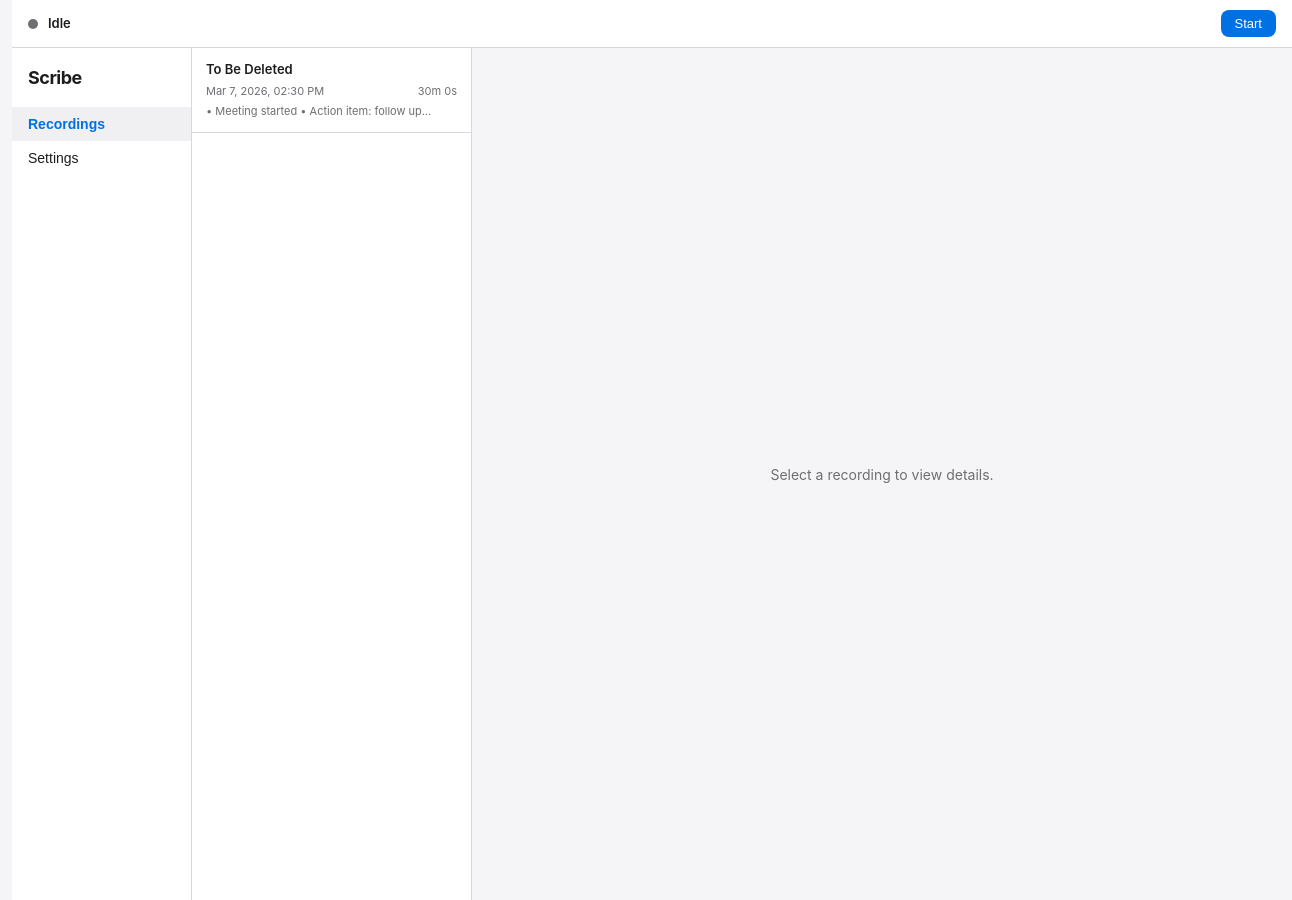
Test: App – recording selection › clears detail pane when recording is deleted
This screenshot has width=1292, height=900.
Click the text "To Be Deleted".
click(249, 69)  # box [206,61,293,77]
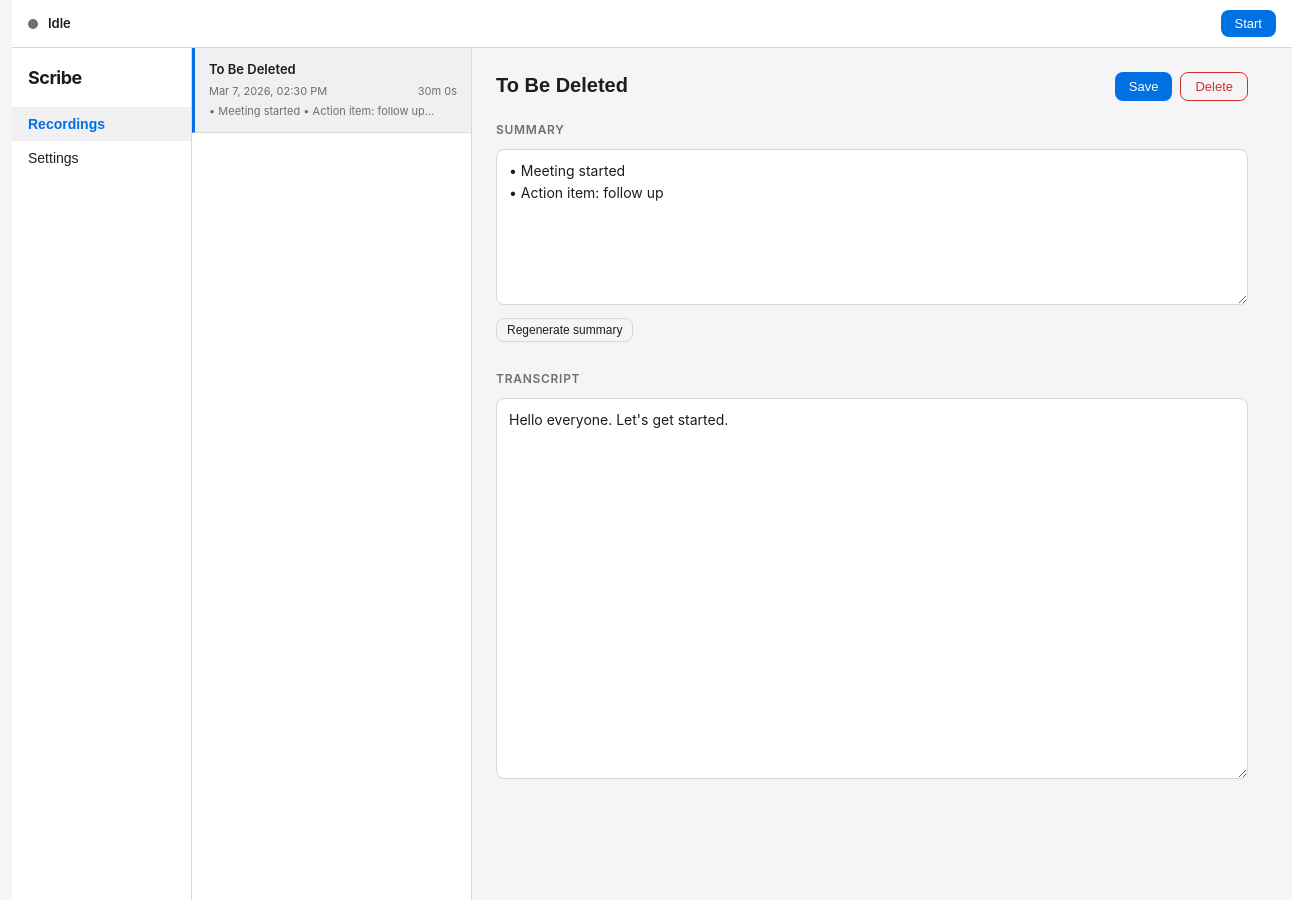
Check: the field showing "To Be Deleted" is shown, box [496,72,1103,101]
Click the button "Delete".
click(1214, 86)  # box [1180,72,1248,101]
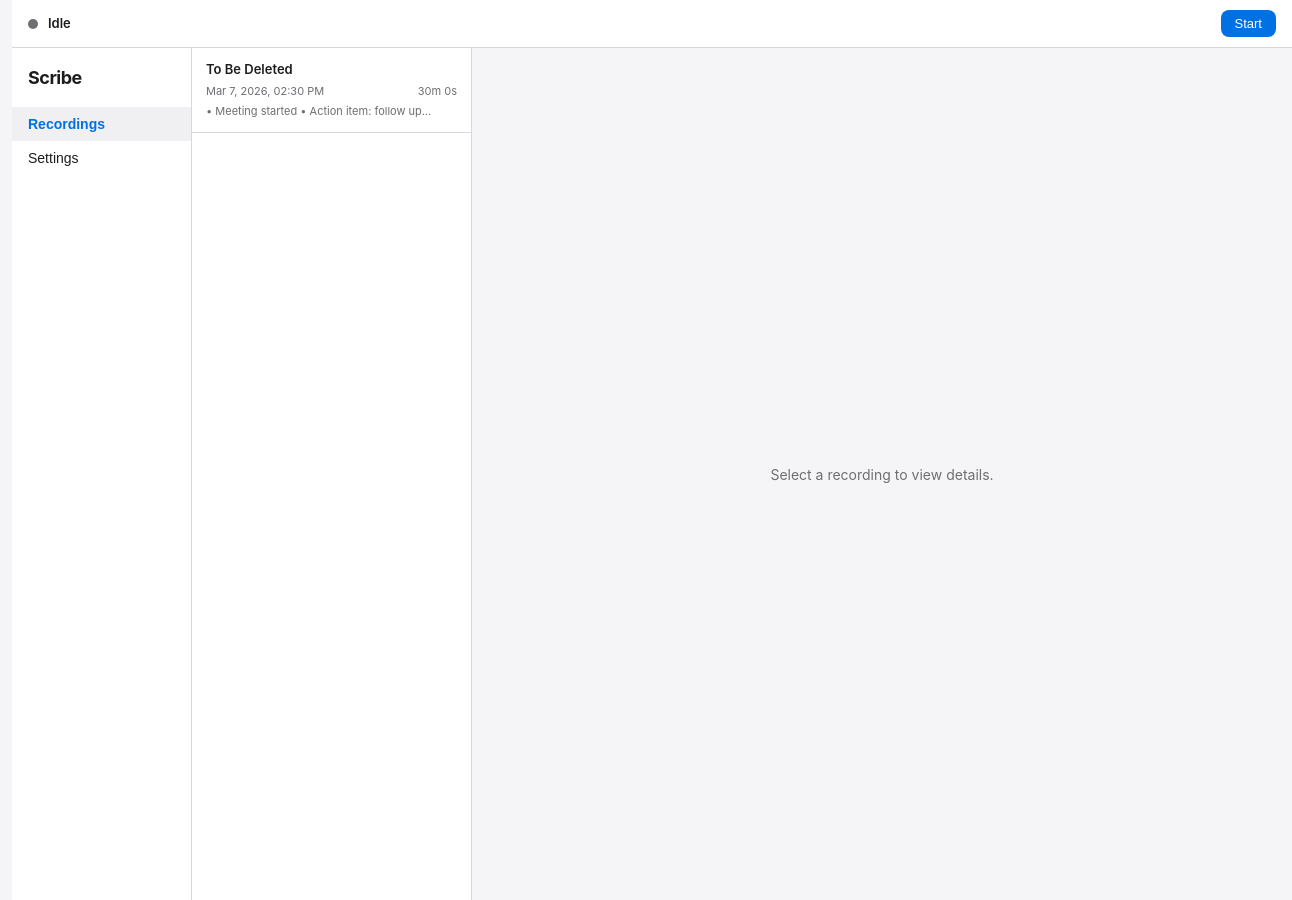
Check: the text "Select a recording to view details." is shown, box [770,464,994,484]
